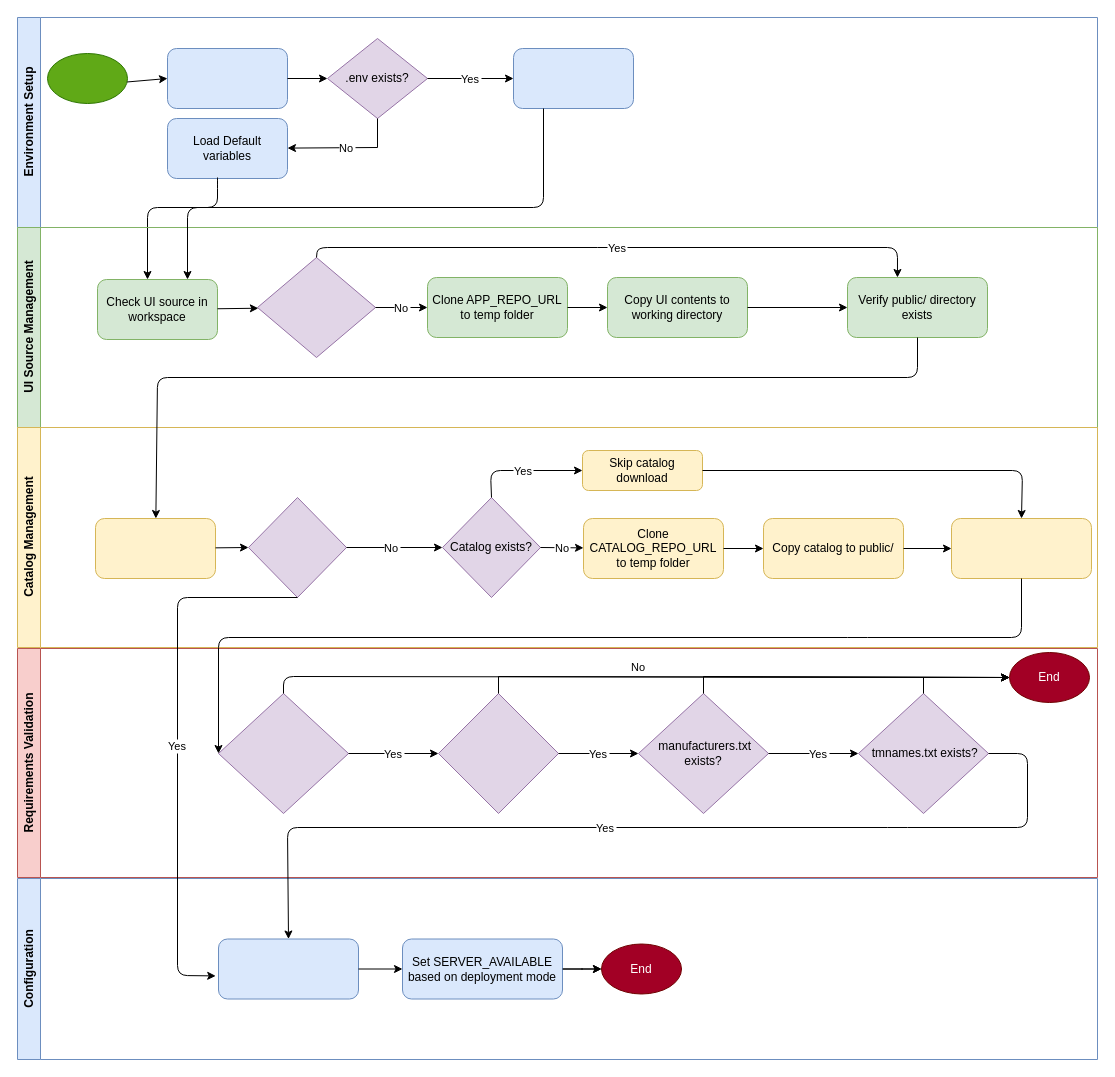
Some shapes in this 1115 by 1077 pixel diagram are drawn without their labels. The centre of each missing label's shape, as x and y in pixels:
"Backend exists?" goes at (297,547).
"Check public/.tmc exists" goes at (155,548).
"Load .env file" goes at (227,78).
"Load variables" goes at (573,78).
"mpns.txt exists?" goes at (498,753).
"Start" goes at (87,78).
"tm-catalog.toc.json exists?" goes at (283,753).
"UI source exists?" goes at (316,307).
"Update vite.config.mjs" goes at (288,968).
"Validate required files in .tmc" goes at (1021,548).
